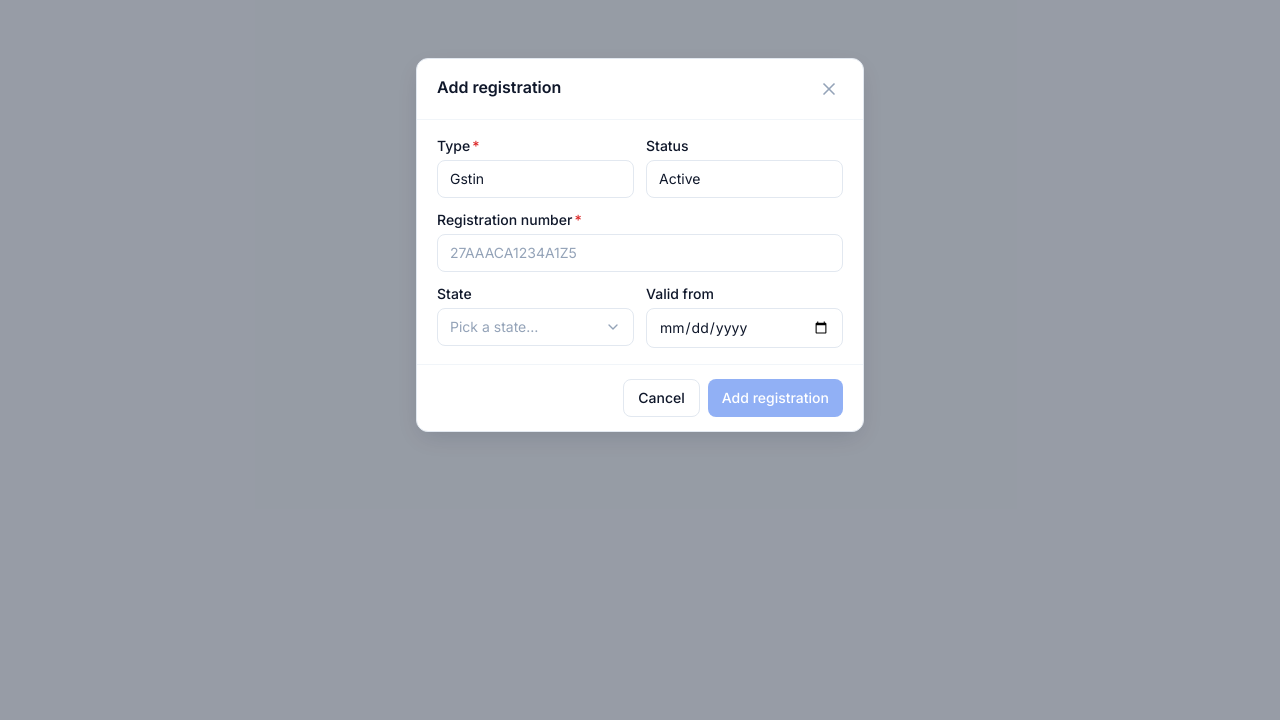
Test case: a GSTIN already on another client › offers no merge when the holder is in an office the person cannot open
Type "06AAKFT1234Q1Z5" into the field with placeholder "27AAACA1234A1Z5".
click(640, 253); type("06AAKFT1234Q1Z5")  # box [437,234,843,272]
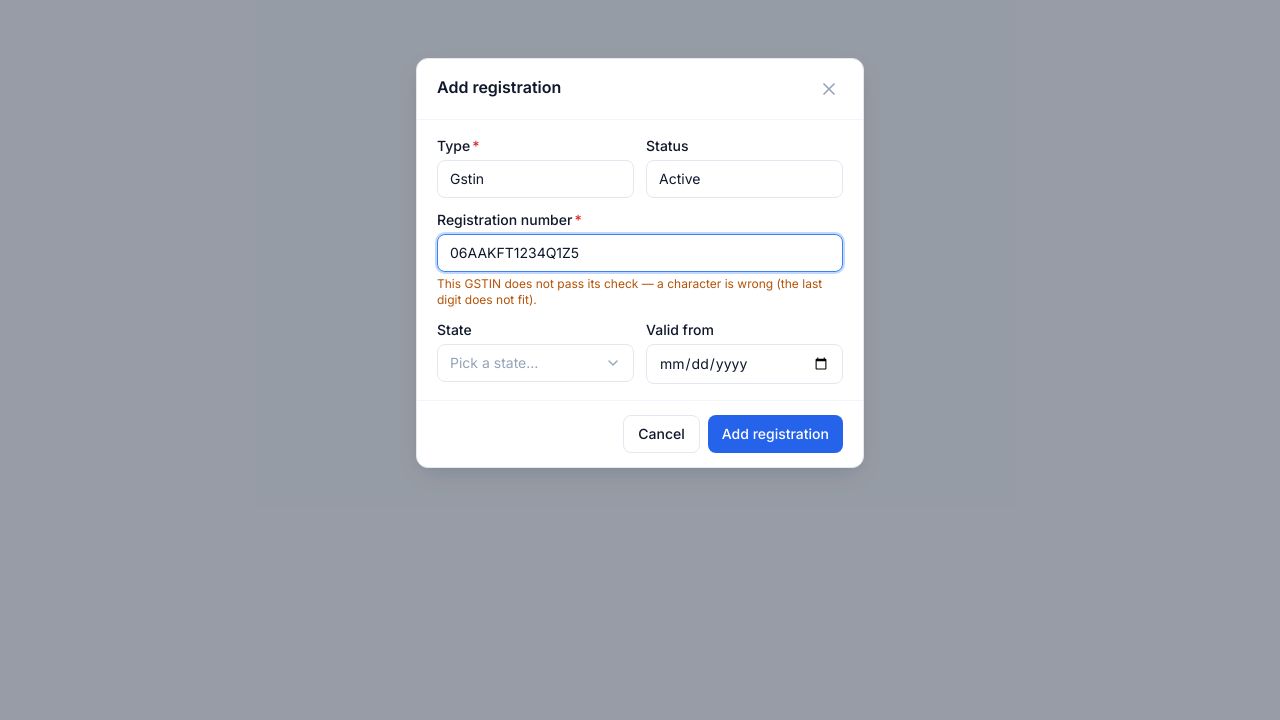
Click the button "Add registration".
click(775, 434)  # box [708,415,843,453]
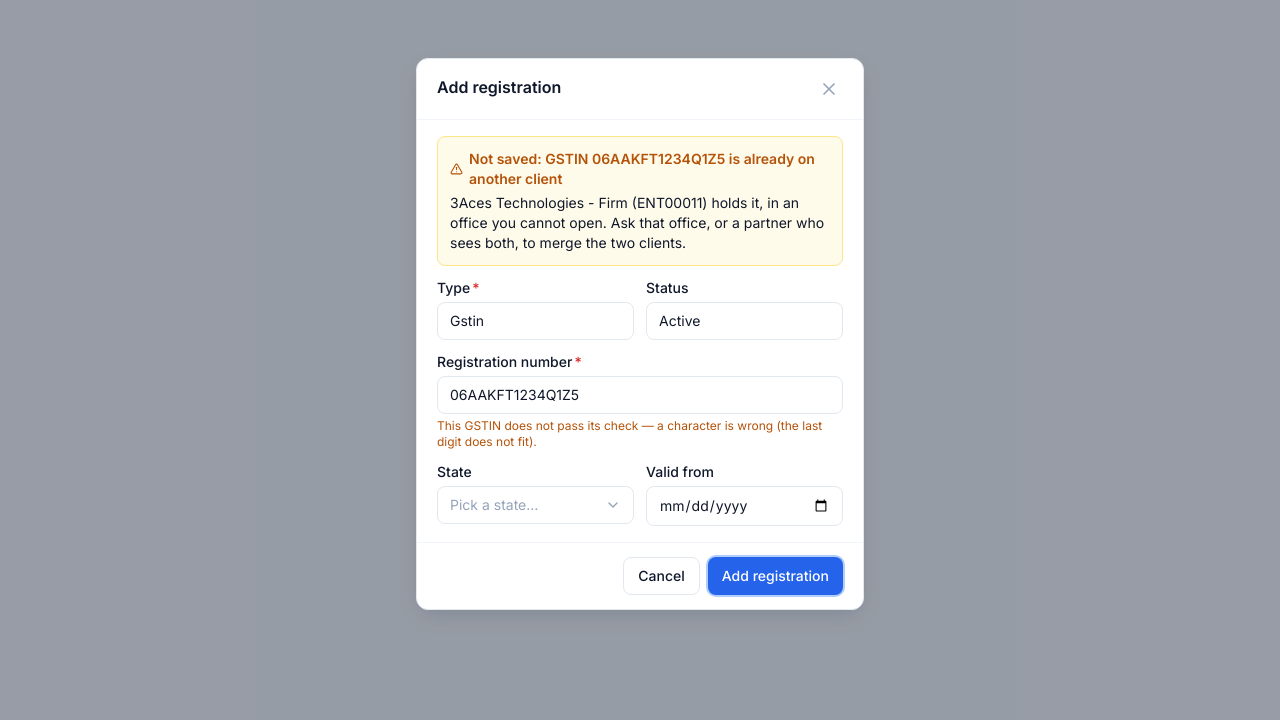
Now the text "in an office you cannot open" is shown, box [450,194,824,251]
